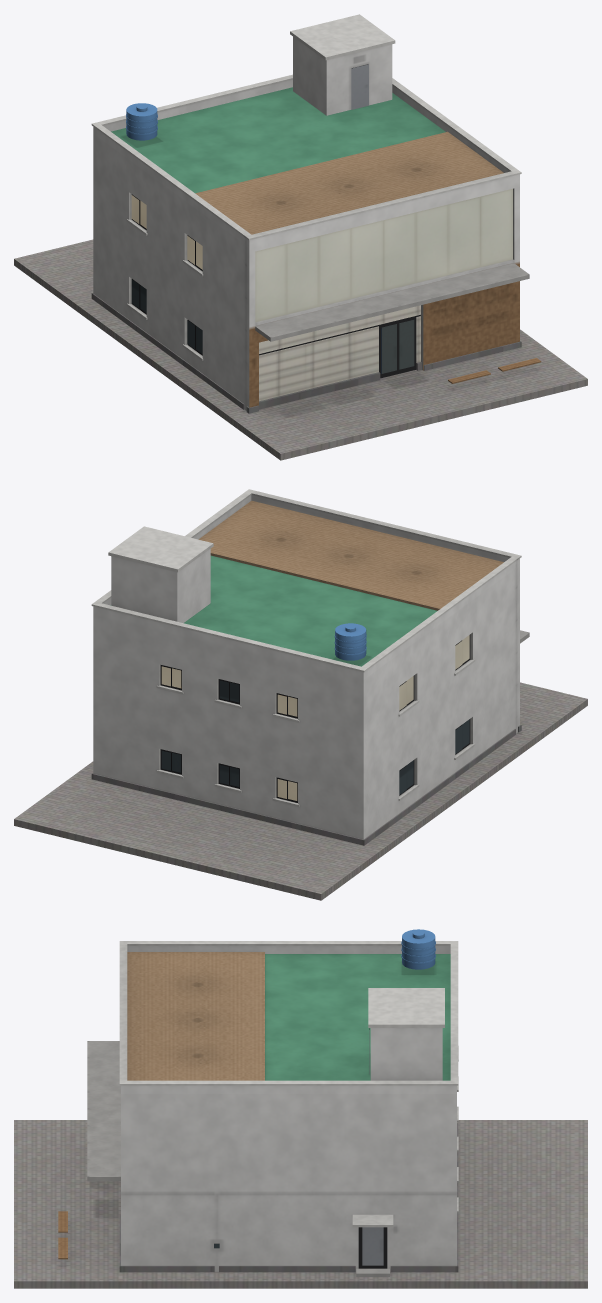
File: IlsanSikdang153_LOD2.fbx
3 views of the same model, one above another, from view 1: azimuth 30°, elevation 25°; view 2: azimuth 150°, elevation 25°; view 3: azimuth 270°, elevation 25° (orthographic). The views are drawn at different scales.
Parts seen in each view (by area): view 1: IlsanSikdang153_LOD2; view 2: IlsanSikdang153_LOD2; view 3: IlsanSikdang153_LOD2.
Part boxes in pixels (left/top/right/bottom): IlsanSikdang153_LOD2: left=14, top=14, right=587, bottom=460; IlsanSikdang153_LOD2: left=14, top=489, right=587, bottom=900; IlsanSikdang153_LOD2: left=14, top=929, right=587, bottom=1288.
Bounding box in the file's own units: 15.95 × 11.45 × 23.9.
1 material, 1 textured.
